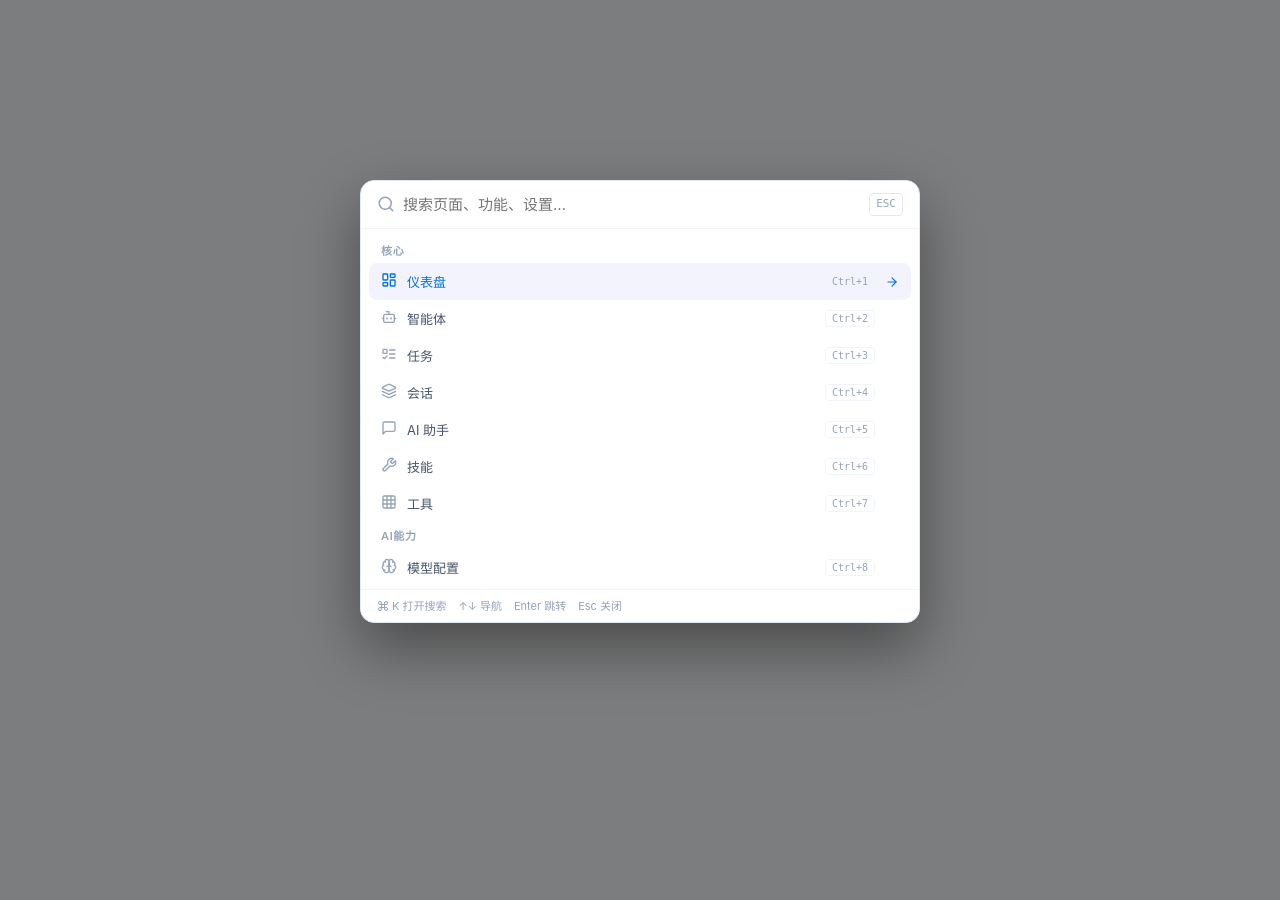
Test: GlobalSearch › filters results by search query
Type "服务" into the field with placeholder "搜索页面、功能、设置..." at (632, 204), box [403,195,861,214]
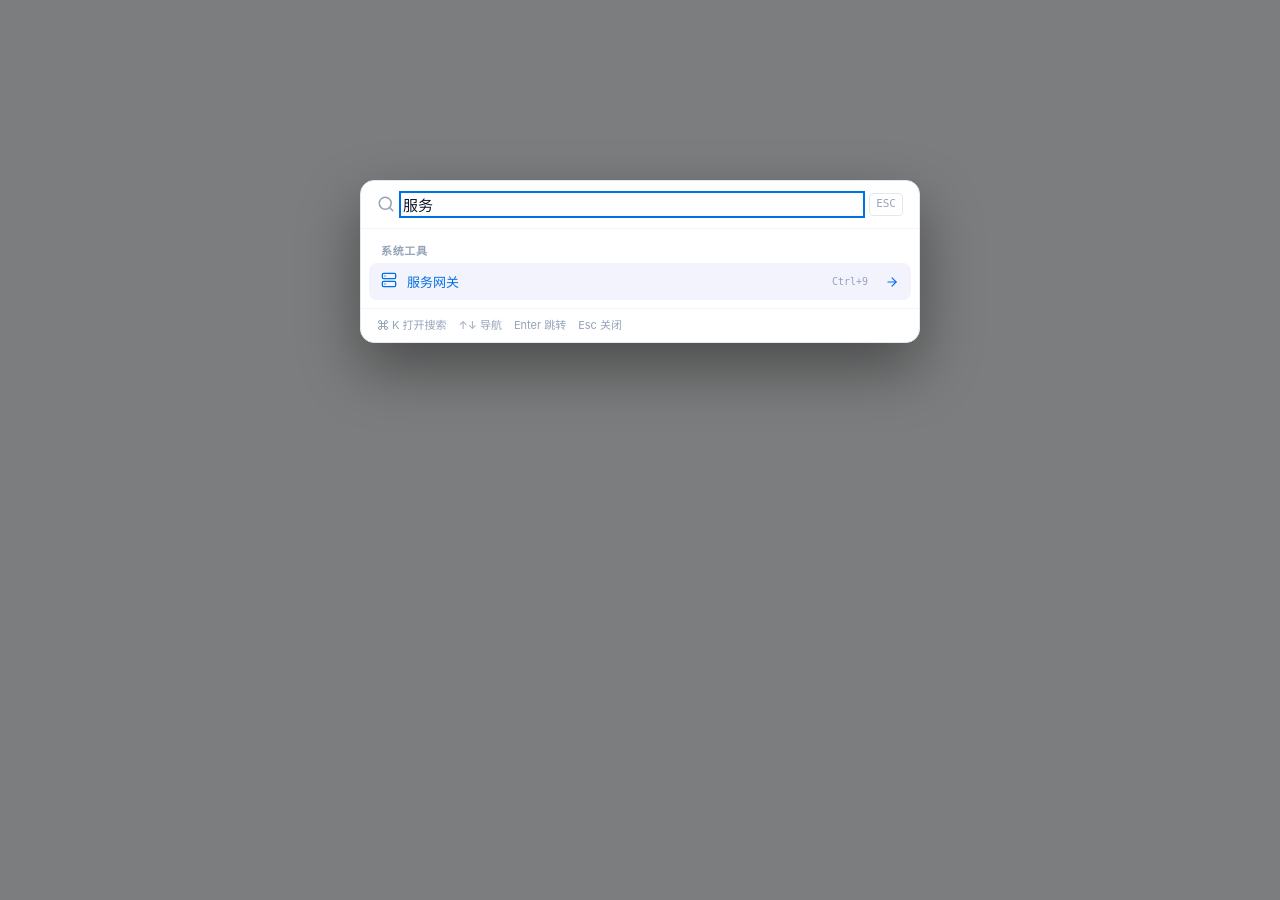
Now the text "服务网关" is shown, box [407,274,459,290]
Now the option "仪表盘" is gone
